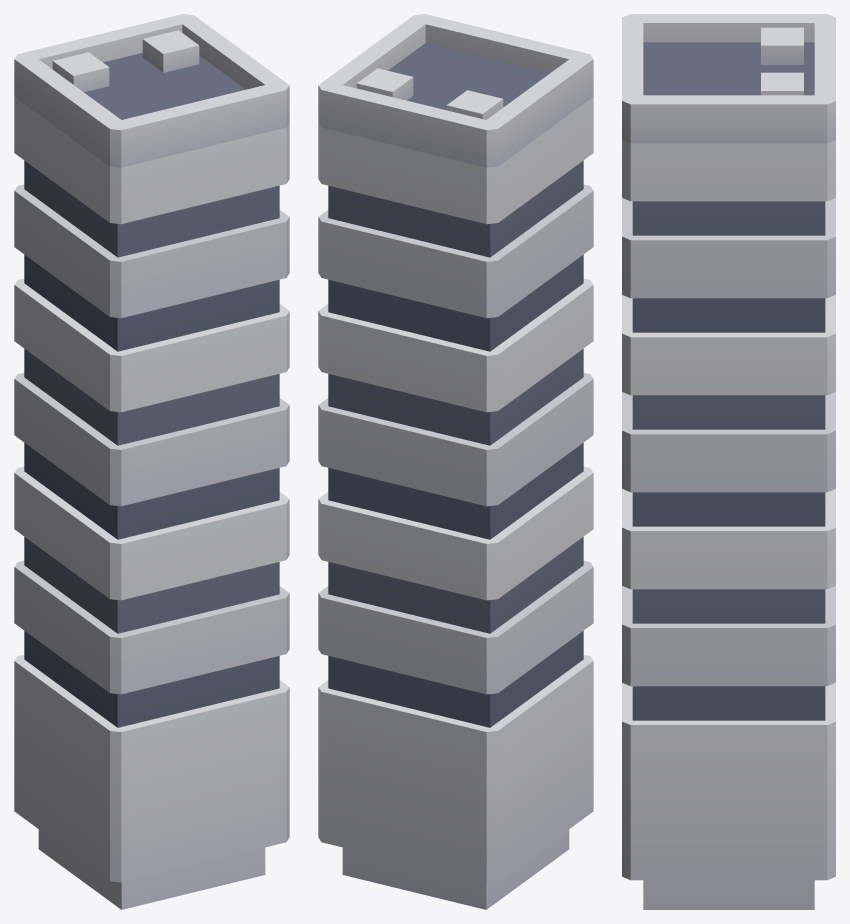
The model's file is commercial__low-detail-building-h.glb.
3 renders of one model, left to right at view 1: azimuth 30°, elevation 25°; view 2: azimuth 150°, elevation 25°; view 3: azimuth 270°, elevation 25°, orthographic. The views are drawn at different scales.
Visible parts, largest first — view 1: low-detail-building-h; view 2: low-detail-building-h; view 3: low-detail-building-h.
Boxes of the visible parts, left/top/right/bottom form: low-detail-building-h: left=14, top=14, right=289, bottom=909; low-detail-building-h: left=318, top=14, right=593, bottom=909; low-detail-building-h: left=622, top=14, right=835, bottom=909.
Size of the model in its own units: 0.4999 by 2.1 by 0.4999.
Materials: 1 (1 with a texture image).
